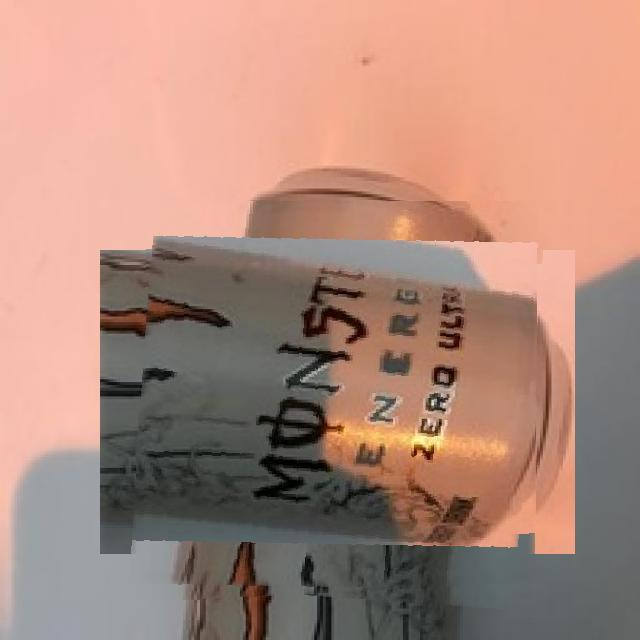recyclable: (136, 201, 538, 603)
